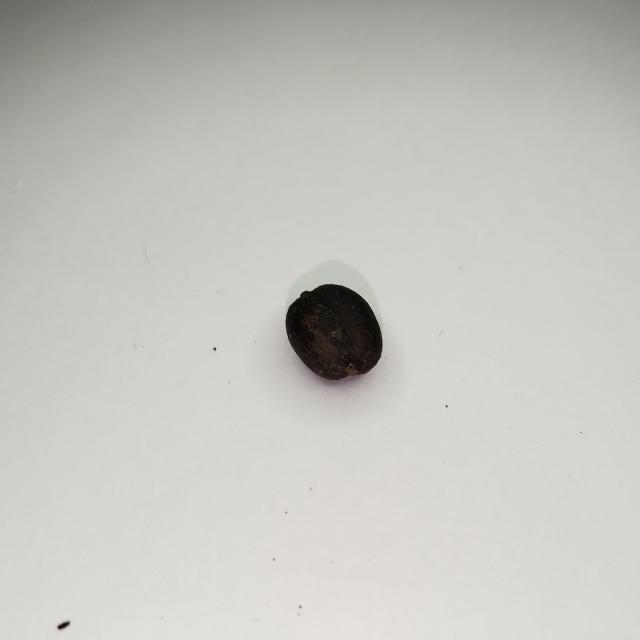Danado: (286, 283, 381, 380)
